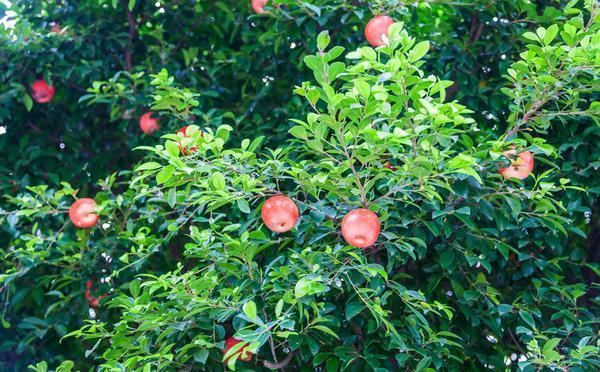apple: (341, 208, 380, 249), (260, 193, 298, 233), (498, 146, 534, 179), (69, 196, 98, 228)
